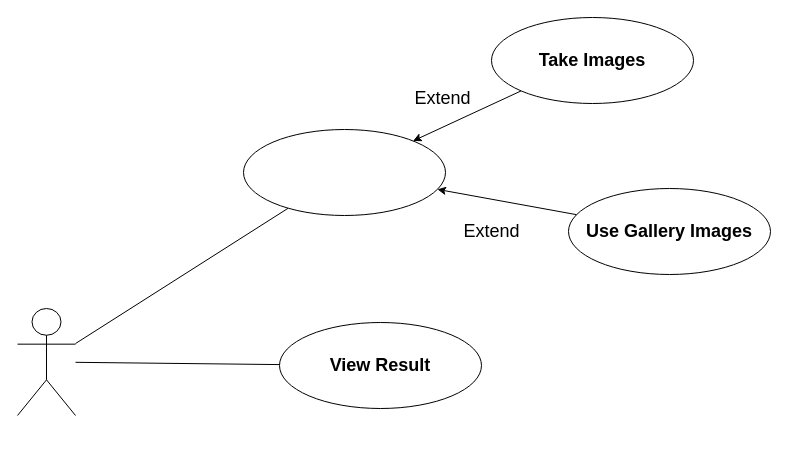
This 788x454 diagram has some shape labels left out. Each missing label, with the centre of its shape:
"Farmer" belongs at point (46, 362).
"Scan apple" belongs at point (344, 172).
